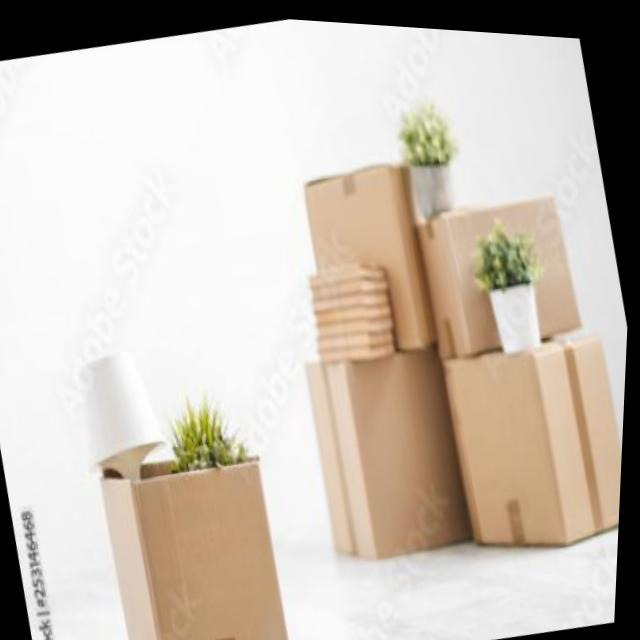box: (423, 299, 630, 572), (80, 401, 314, 640), (285, 317, 488, 582), (280, 130, 466, 396), (398, 162, 607, 379)
